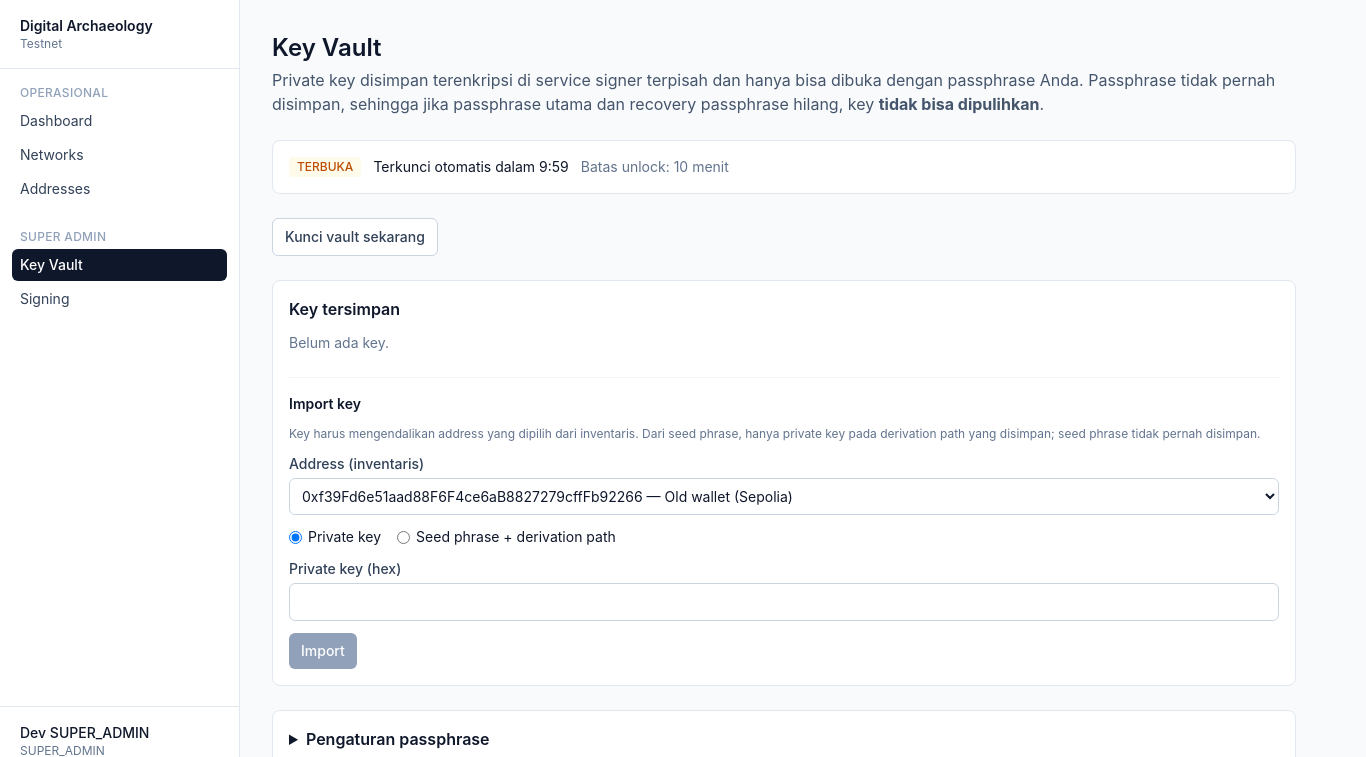
Key Vault page › imports a key and clears the secret from the form
Step 1. Type "0xac0974bec39a17e36ba4a6b4d238ff944bacb478cbed5efcae784d7bf4f2ff80" into the password field labelled "Private key (hex)" → (784, 602), box [289,583,1279,621]
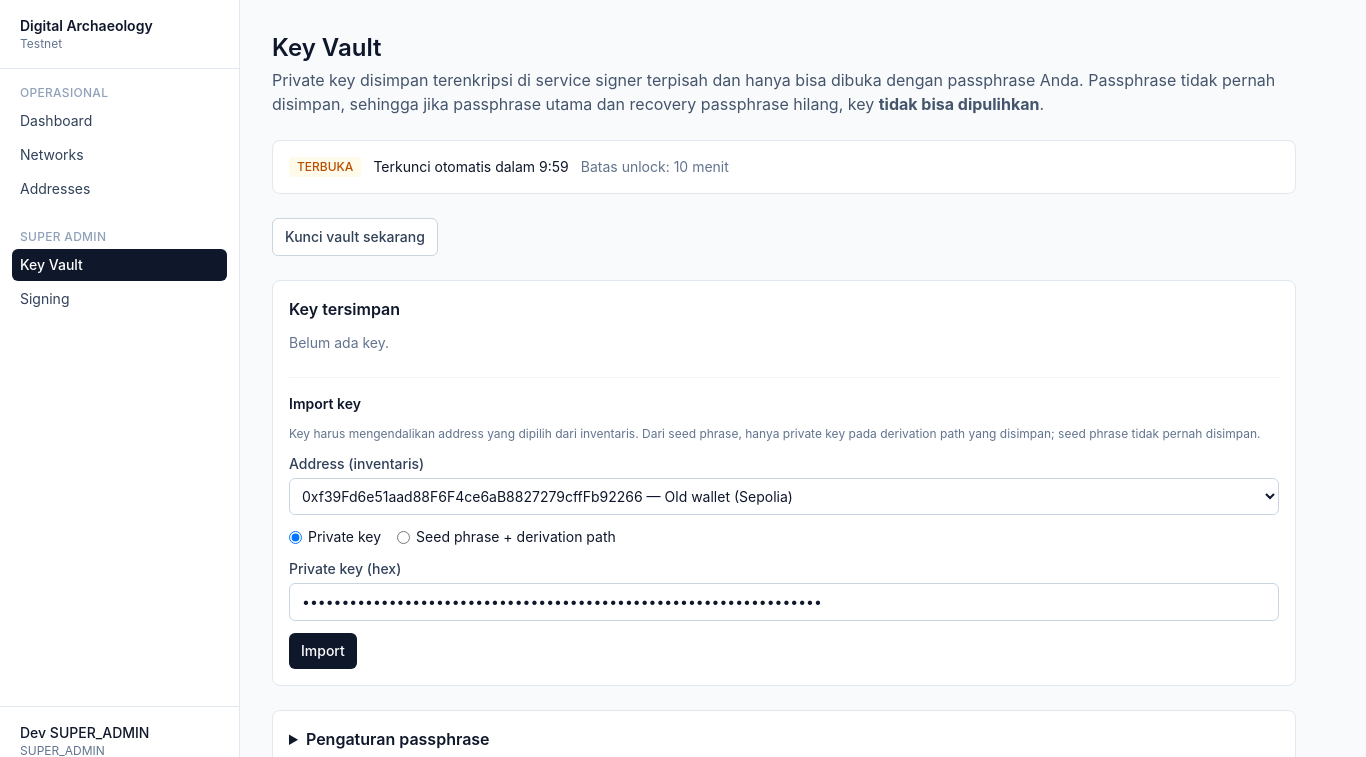
Step 2. Click the button "Import" → (323, 651), box [289,633,357,669]
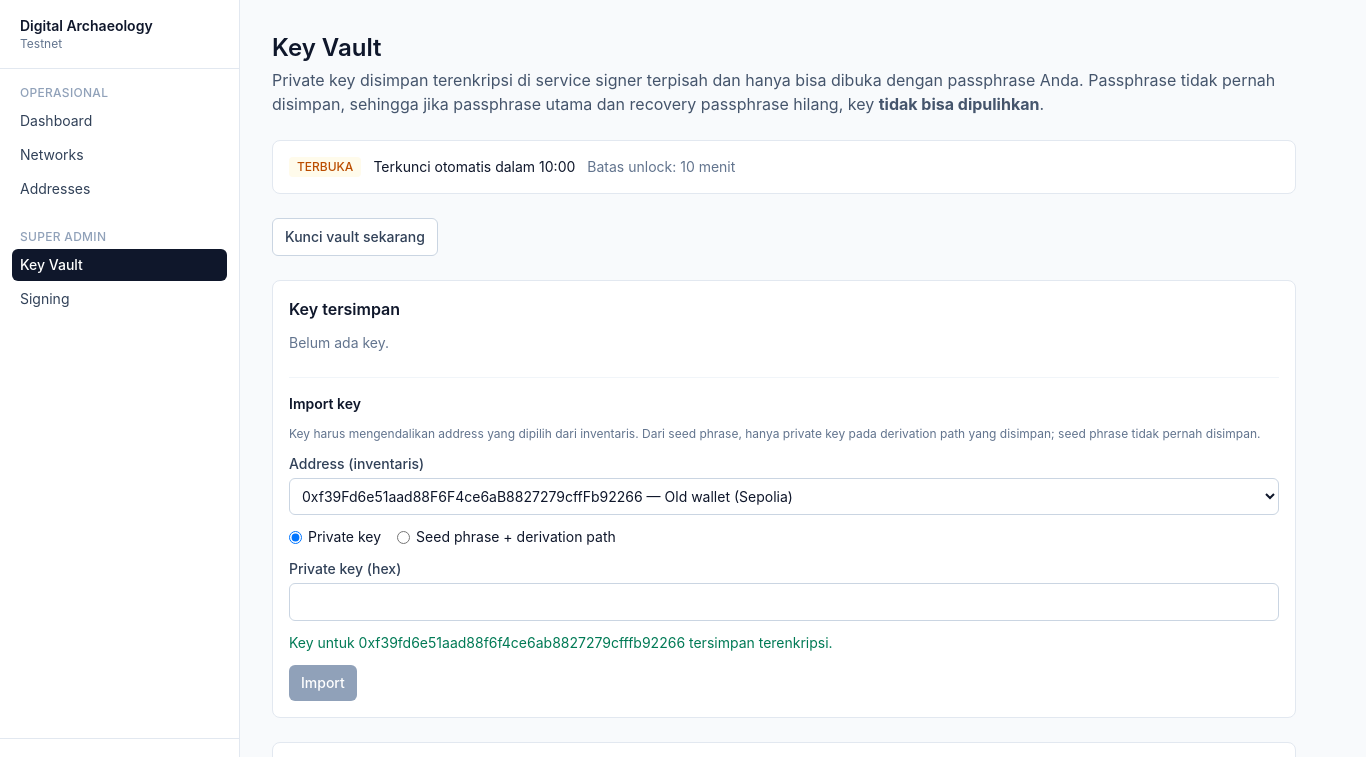
Expected: the message "Key untuk 0xf39fd6e51aad88f6f4ce6ab8827279cfffb92266 tersimpan terenkripsi." is shown, [289,634,833,651]
Expected: the password field labelled "Private key (hex)" is empty, [289,583,1279,621]
